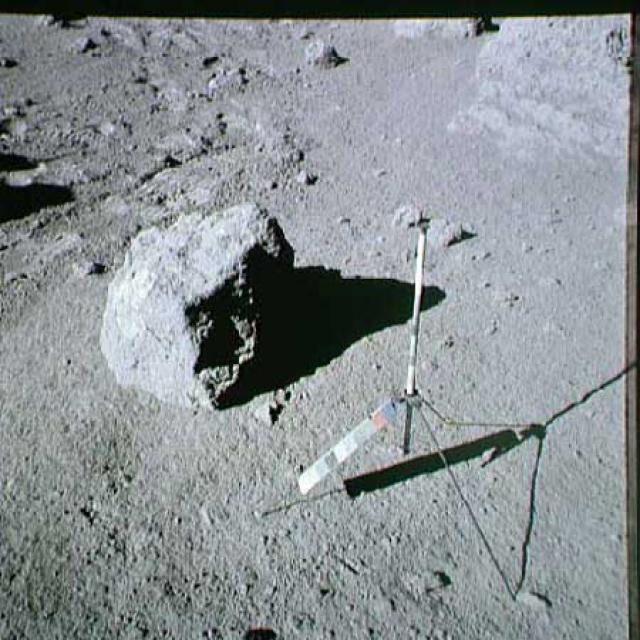artifact: (294, 194, 542, 609)
rock: (90, 201, 297, 418), (453, 9, 640, 164), (378, 4, 492, 52), (303, 36, 345, 70)
